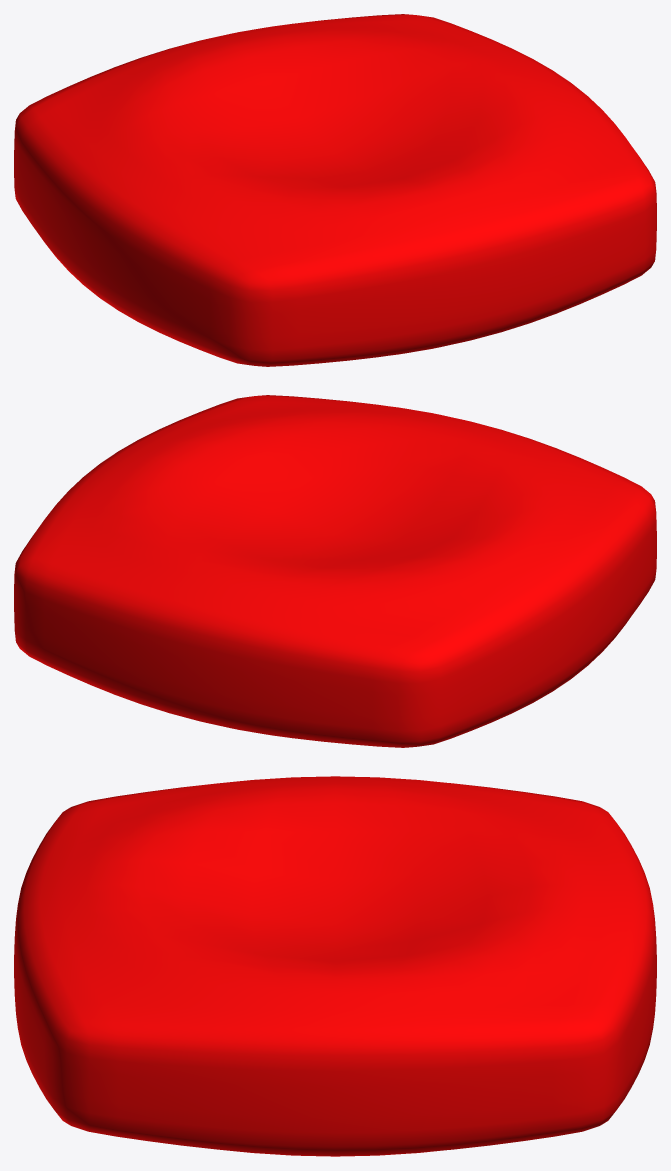
Rendered from Candy2 1.fbx.
3 renders of one model, top to bottom at view 1: azimuth 30°, elevation 25°; view 2: azimuth 150°, elevation 25°; view 3: azimuth 270°, elevation 25°, orthographic. The views are drawn at different scales.
Visible parts, largest first — view 1: Cube; view 2: Cube; view 3: Cube.
Part boxes in pixels (<box>): Cube: <box>14,14,656,366</box>; Cube: <box>14,395,656,747</box>; Cube: <box>14,776,656,1156</box>.
Bounding box in the file's own units: 98.59 × 27.72 × 98.59.
